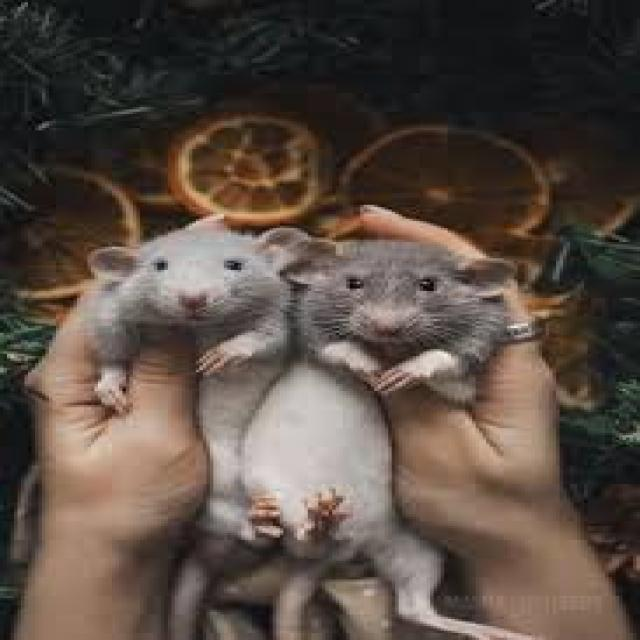Rat: (96, 184, 501, 575)
